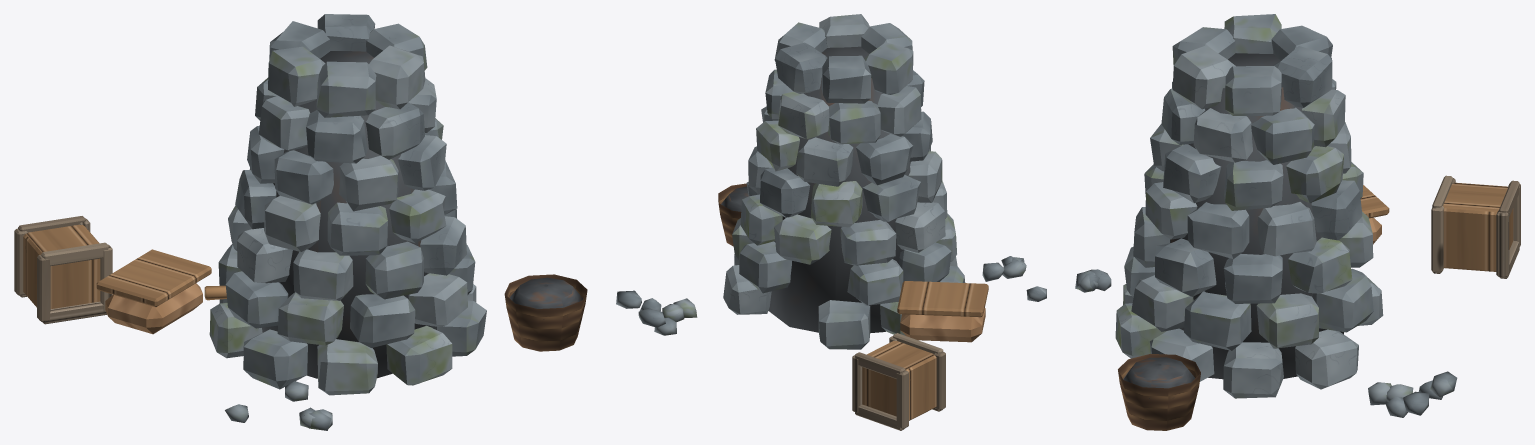
File: bw_copper_smelter.fbx
The picture shows the model from 3 angles, left to right: view 1: azimuth 30°, elevation 25°; view 2: azimuth 150°, elevation 25°; view 3: azimuth 270°, elevation 25°; orthographic projection. The views are drawn at different scales.
Parts seen in each view (by area): view 1: bw_copper_smelter; view 2: bw_copper_smelter; view 3: bw_copper_smelter.
Part boxes in pixels (bbox=[...]): bw_copper_smelter: bbox=[14, 14, 587, 430]; bw_copper_smelter: bbox=[616, 14, 1046, 430]; bw_copper_smelter: bbox=[1075, 14, 1520, 430].
Size of the model in its own units: 1.97 by 1.42 by 1.9.
